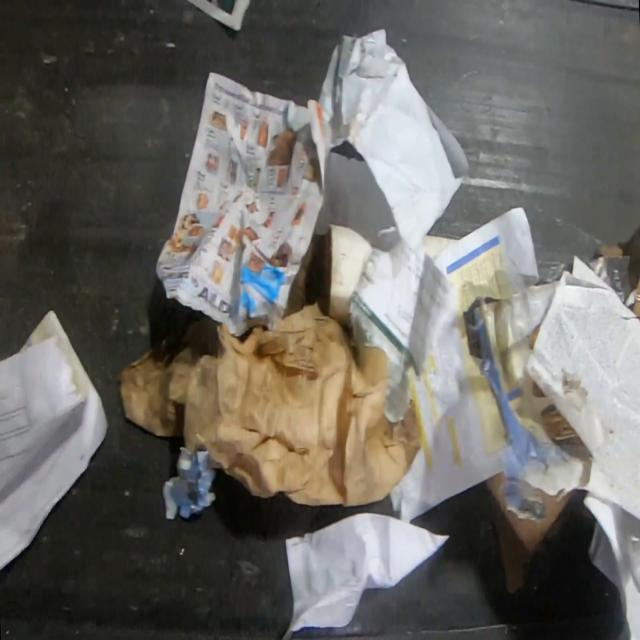cardboard: (485, 469, 578, 595), (323, 223, 372, 341)
